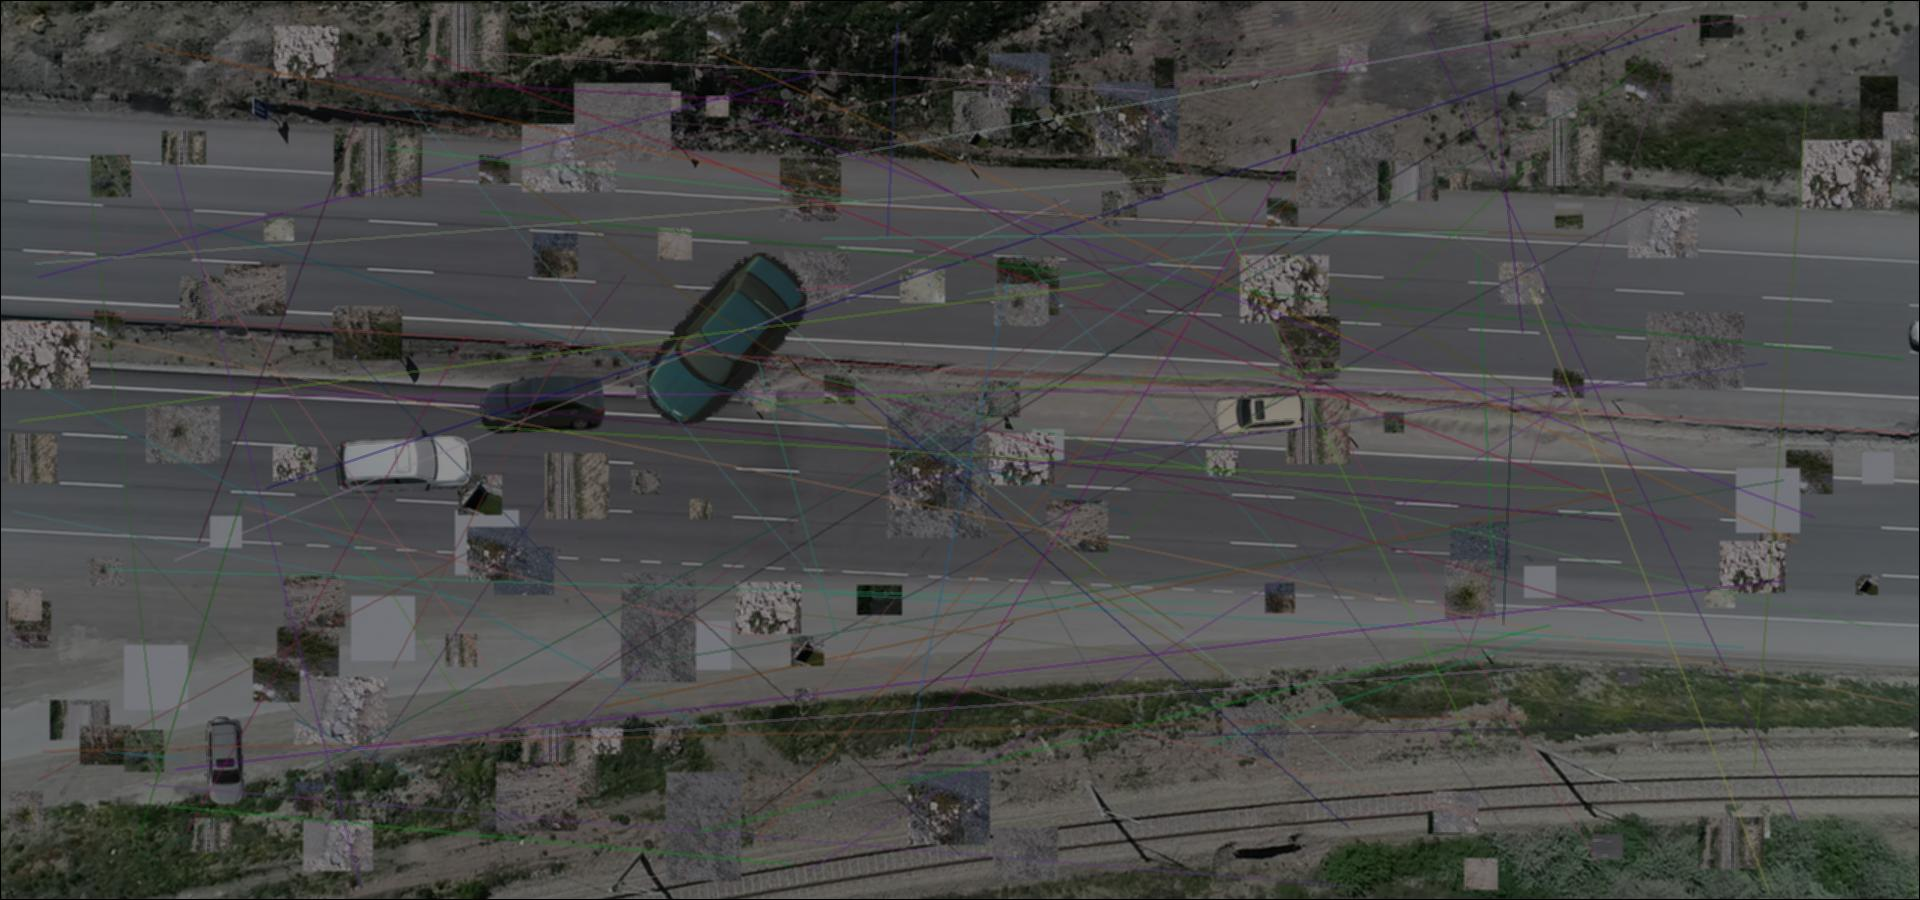arac: (647, 242, 809, 426), (333, 427, 473, 493), (478, 373, 609, 433), (1210, 389, 1307, 433), (203, 716, 246, 804)
